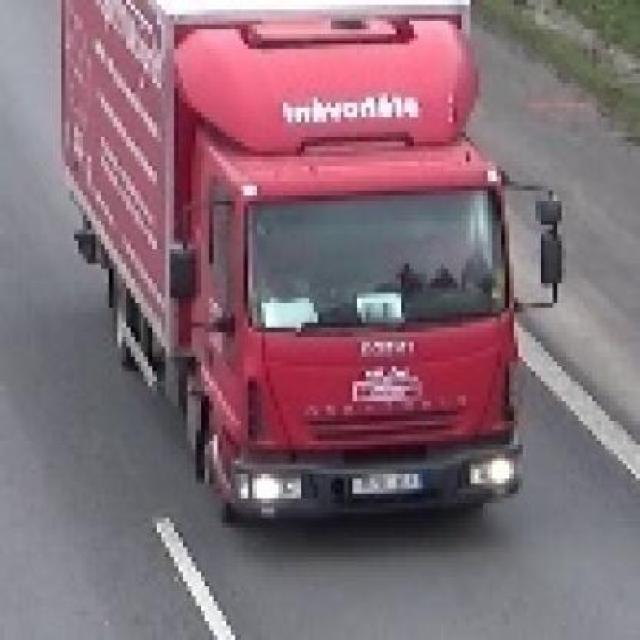truck: (57, 1, 563, 529)
